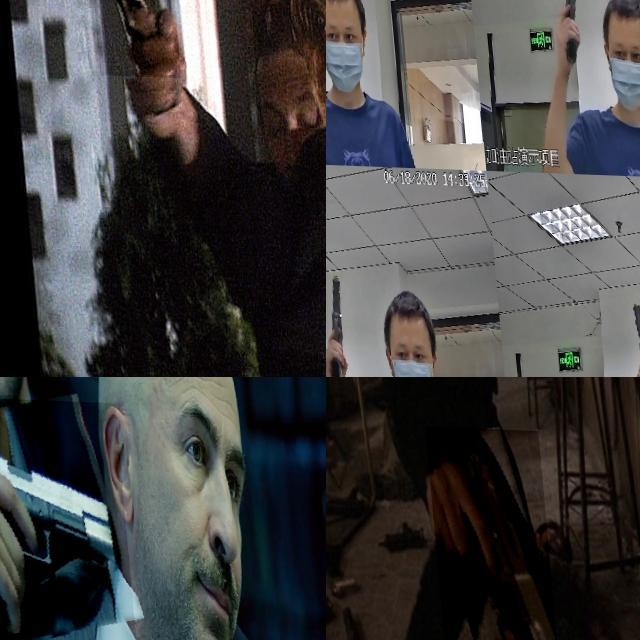gun-knife-thesis - v11 Yolov5 augmented: (0, 394, 126, 640), (420, 425, 551, 640), (85, 0, 176, 77), (614, 298, 640, 377), (552, 0, 583, 63), (326, 272, 339, 377), (326, 0, 345, 57)
